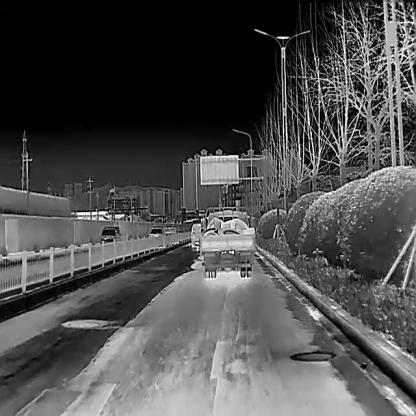car: (100, 226, 121, 247), (148, 225, 164, 243), (191, 224, 200, 250), (164, 227, 176, 239)
truck: (200, 206, 255, 278)
